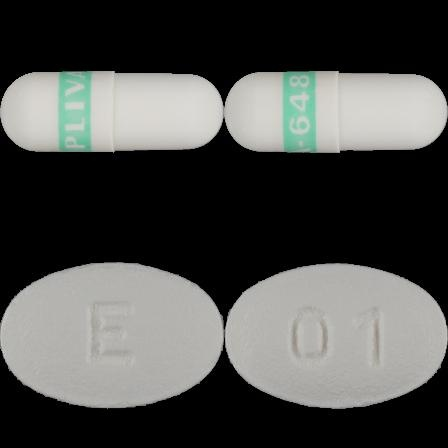10544-181: (0, 0, 224, 224)
